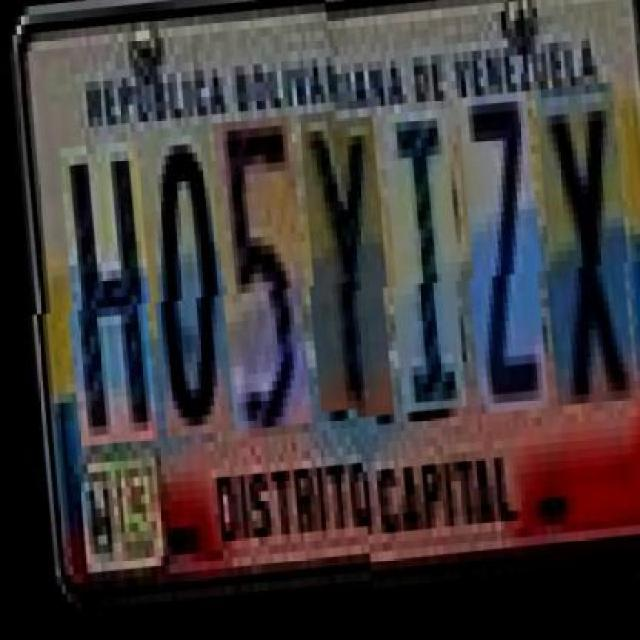5: (211, 130, 309, 444)
h: (56, 152, 155, 456)
i: (379, 117, 463, 420)
o: (142, 137, 227, 449)
x: (532, 95, 632, 418)
y: (298, 124, 390, 427)
z: (454, 102, 546, 424)
